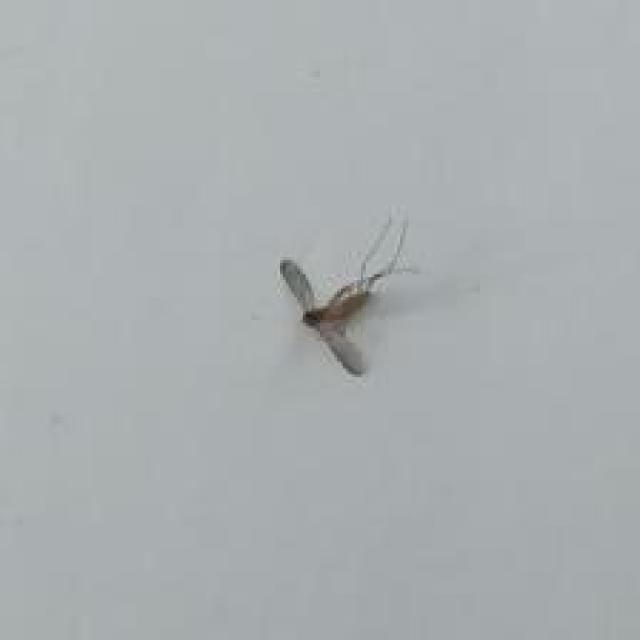Culex: (277, 213, 420, 378)
